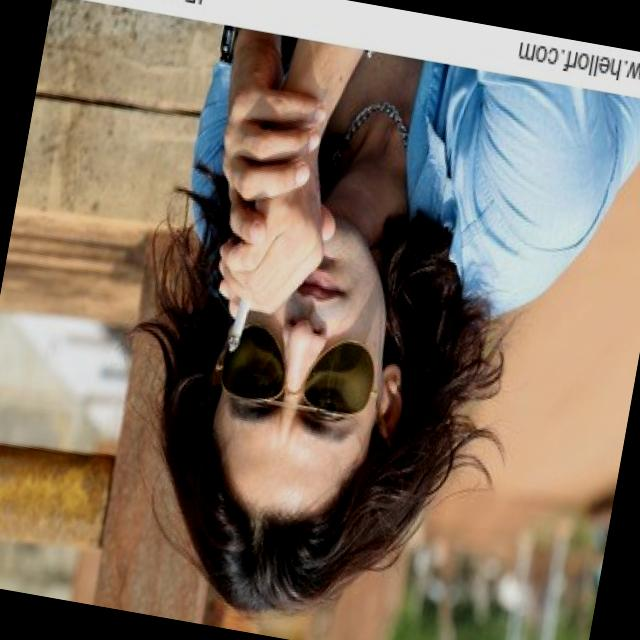smoke: (218, 321, 252, 358)
